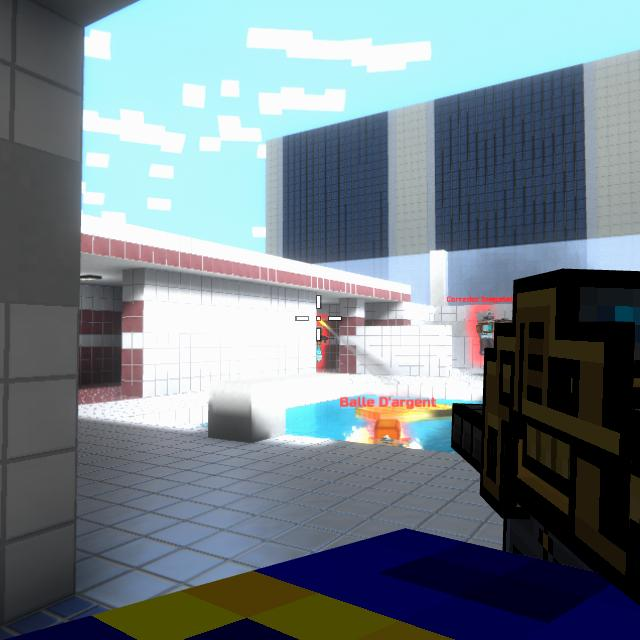Enemy: (367, 419, 409, 445), (475, 309, 497, 356), (316, 324, 327, 365)
